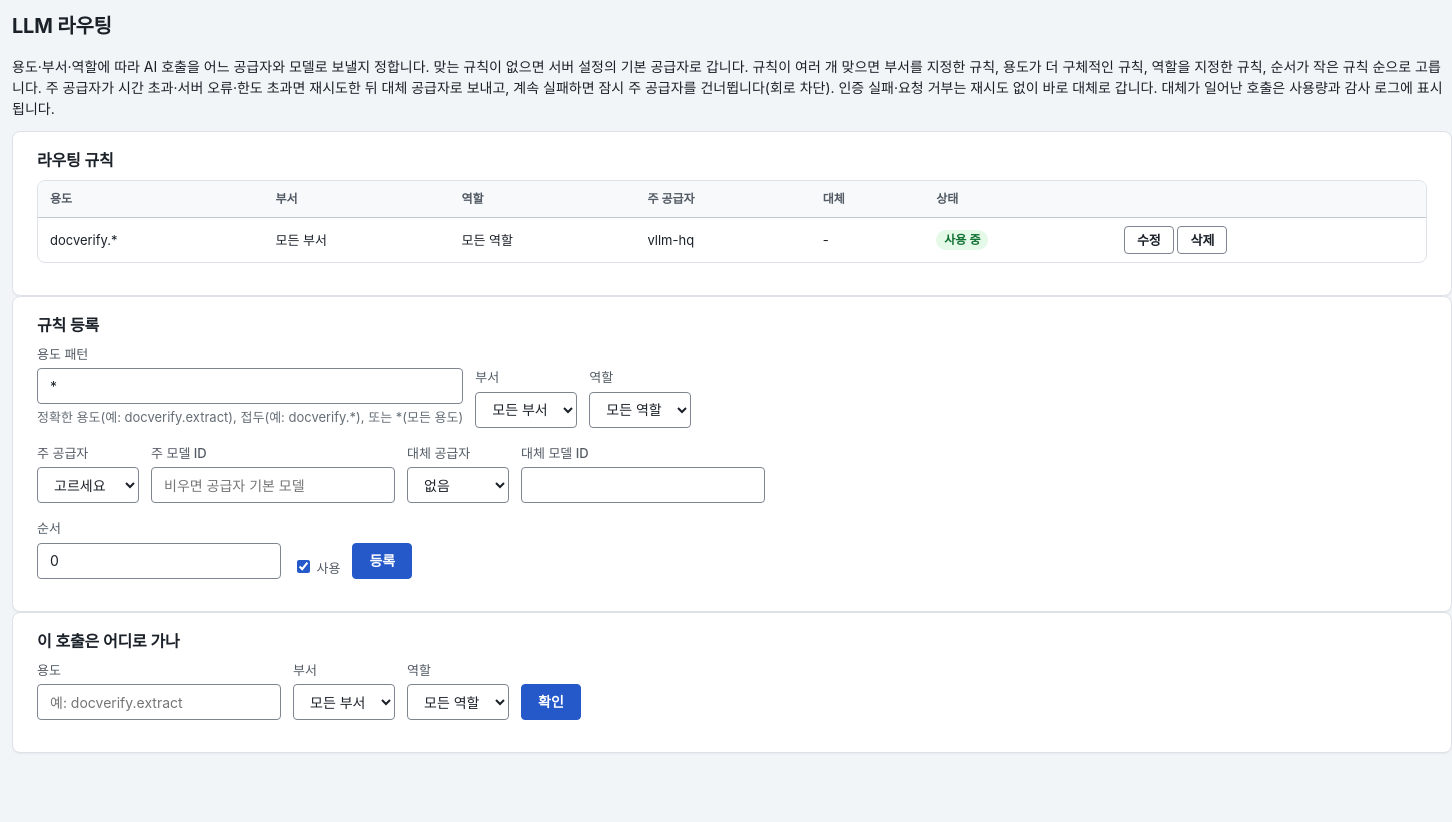
Test: LLM 라우팅 화면 › 규칙 표와 경로 확인 결과를 보인다
Expected: the text "docverify.*" is shown, [38,217,264,262]
Expected: the text "모든 부서" is shown, [264,217,450,262]
Type "docverify.extract" into the field labelled "용도" at (159, 702), box [37,684,281,720]
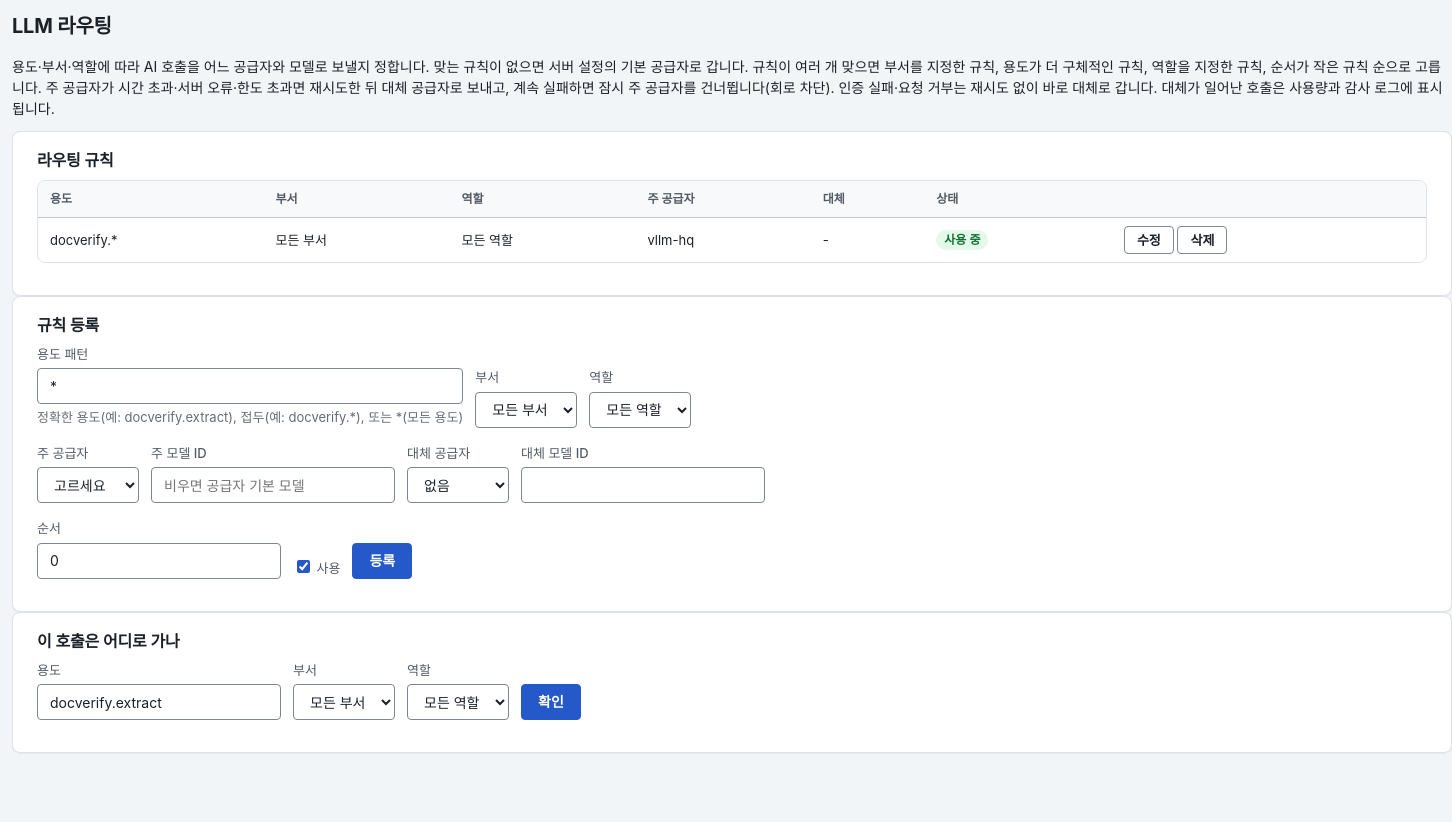
Click the button "확인" at (551, 702), box [521,684,581,720]
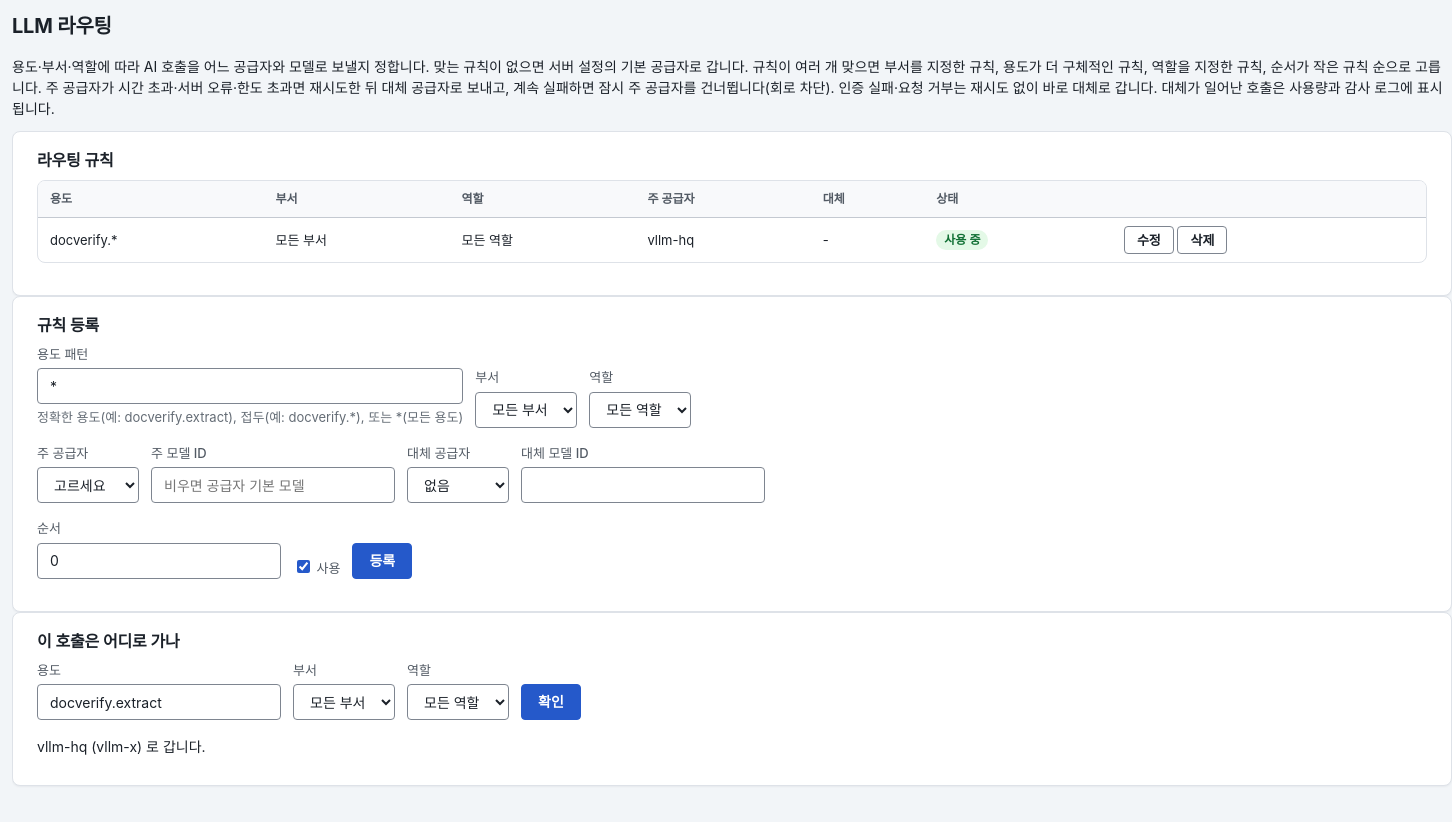
Now the text "vllm-hq (vllm-x) 로 갑니다." is shown, box [37,738,206,755]
